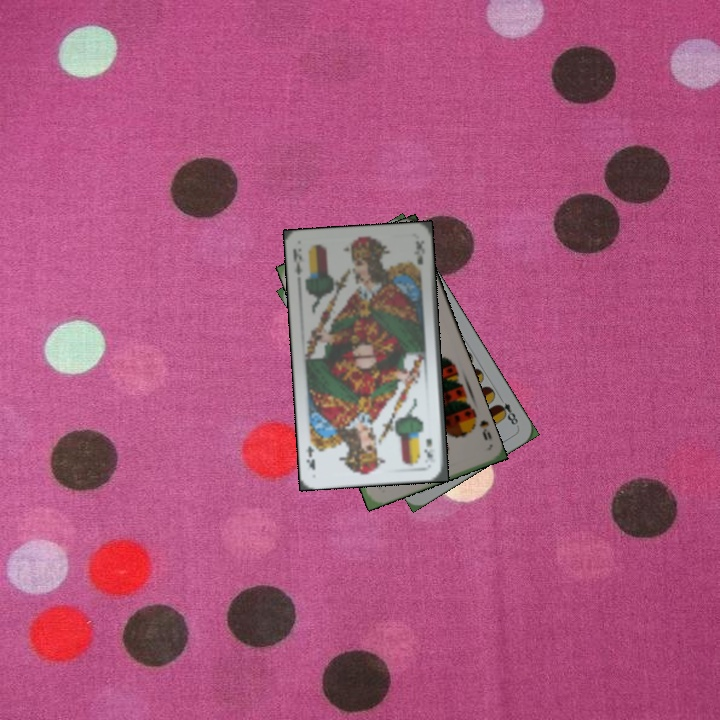E8: (493, 392, 521, 429)
EK: (289, 245, 306, 277), (422, 434, 438, 461)
S9: (475, 416, 494, 443)
